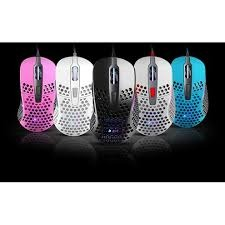mouse: (92, 58, 136, 142), (132, 55, 174, 142), (56, 58, 96, 141), (15, 56, 57, 133), (169, 57, 209, 126)
